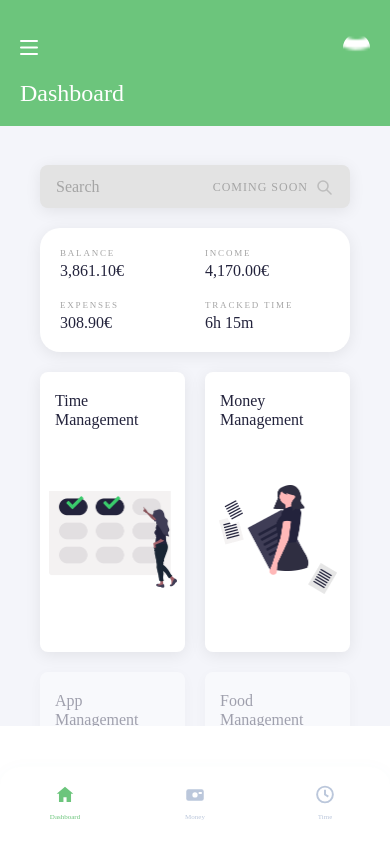
Test case: bottom tab press restores the tab list › pops a pushed Money detail when the Money tab is pressed again
What coordinates should you click on to do the following:
click the tab with test id "tab-money"
I would click on:
 (195, 802)
Its box is [184,784,206,821].
(page scrolled)
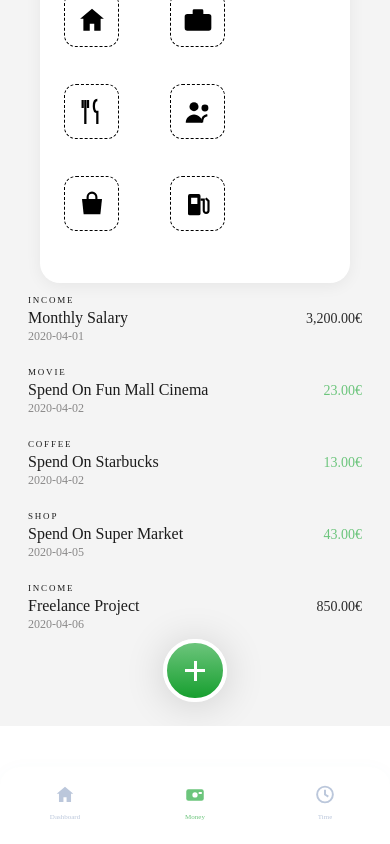
Expected: the element with test id "screen-money-list" is shown
What coordinates should you click on to do the following:
click the button with test id "^transaction-row-"
I would click on:
 (51, 300)
Its box is [0,283,389,355].
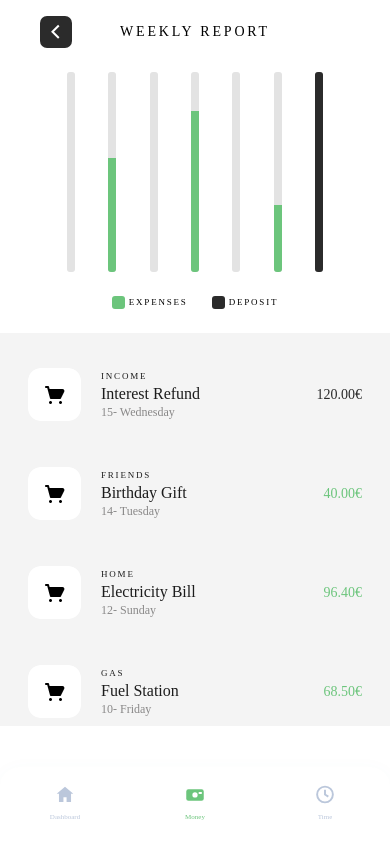
Expected: the element with test id "screen-money-report" is shown
What coordinates should you click on to do the following:
click the tab with test id "tab-money"
I would click on:
 (195, 802)
Its box is [184,784,206,821].
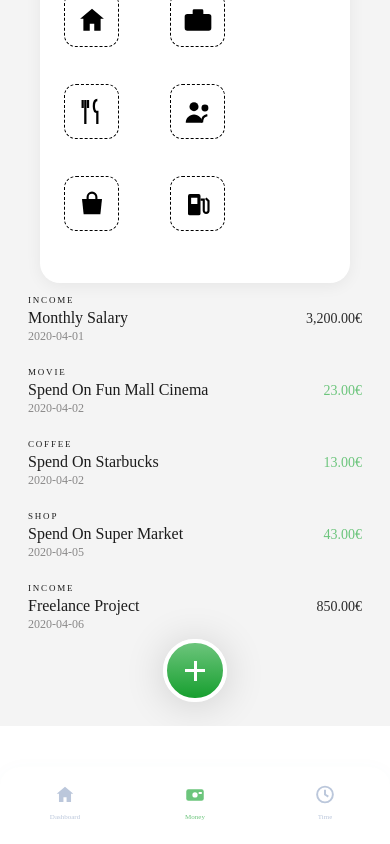
Expected: the element with test id "screen-money-list" is shown
Expected: the element with test id "screen-money-report" is gone
